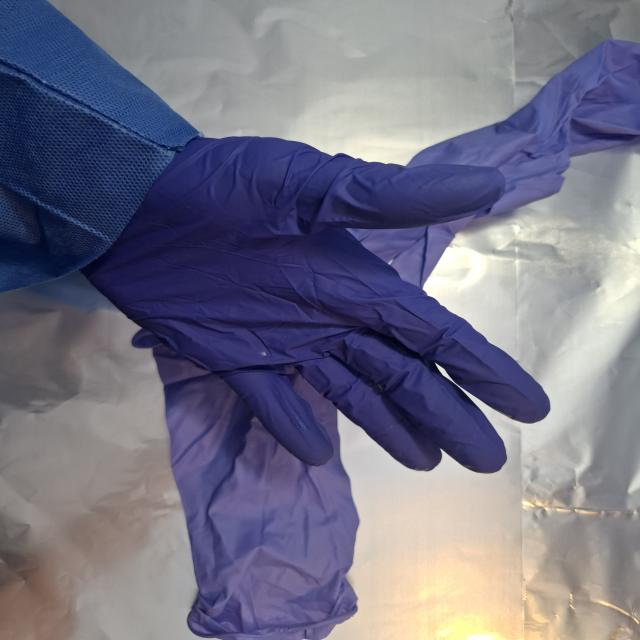glove_on: (76, 133, 554, 476)
